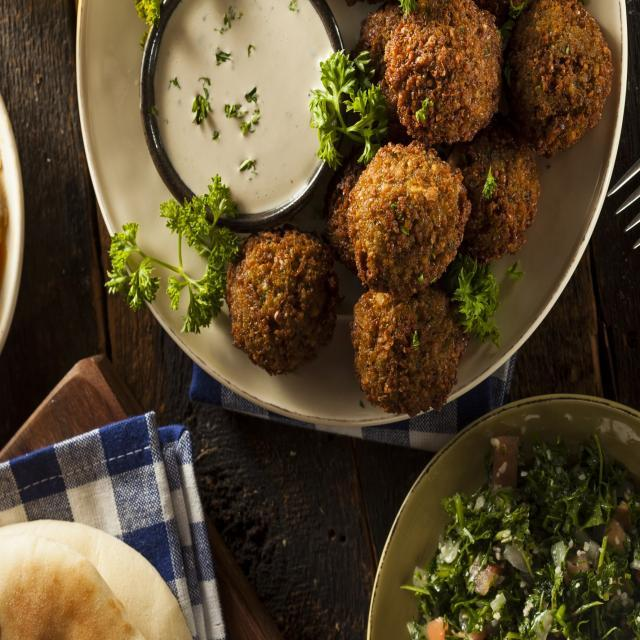flafel: (346, 142, 469, 287), (390, 1, 504, 147), (513, 3, 617, 161), (231, 226, 341, 374), (348, 291, 472, 410)
